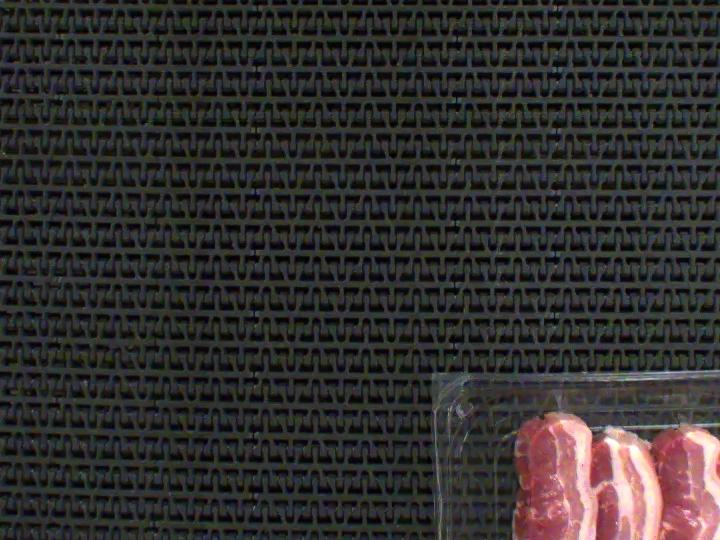packaging-error: (544, 381, 577, 417)
